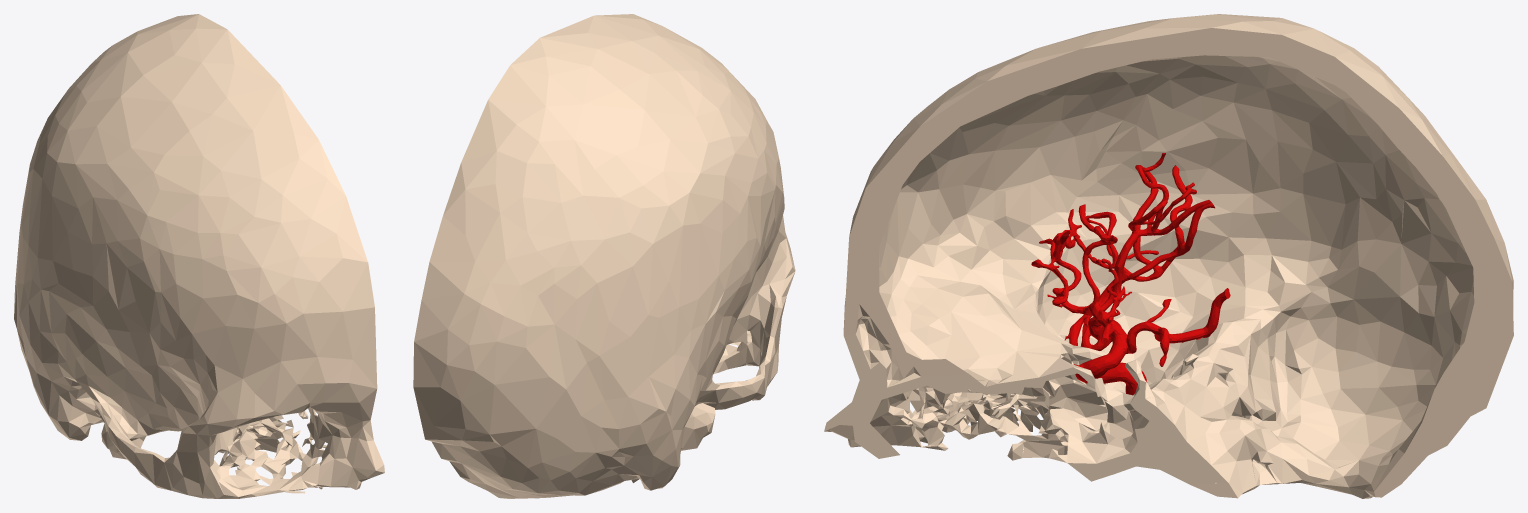
Rendered from Intracranial Aneurysm.fbx.
3 renders of one model, left to right at view 1: azimuth 30°, elevation 25°; view 2: azimuth 150°, elevation 25°; view 3: azimuth 270°, elevation 25°, orthographic. The views are drawn at different scales.
Visible parts, largest first — view 1: reg_skull; view 2: reg_skull; view 3: reg_skull, reg_rica.
Boxes of the visible parts, x1,y1,x2,y2 form: reg_skull: (14, 14, 384, 498); reg_skull: (413, 14, 795, 498); reg_skull: (824, 14, 1513, 498); reg_rica: (1031, 153, 1230, 411).
Bounding box in the file's own units: 7013 × 14683 × 18816.
